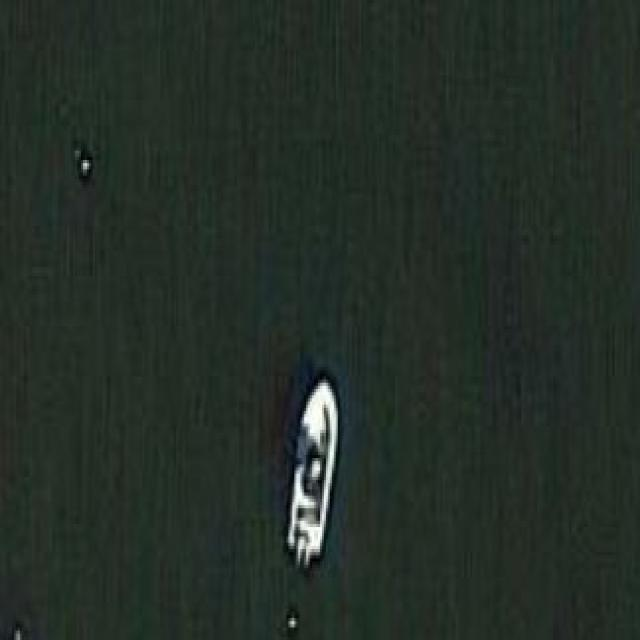ship: (278, 374, 344, 562)
